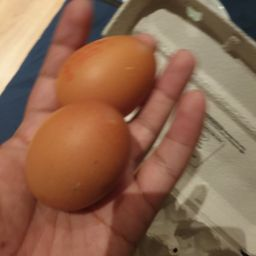Eggs: (15, 99, 144, 207), (38, 33, 165, 110)
